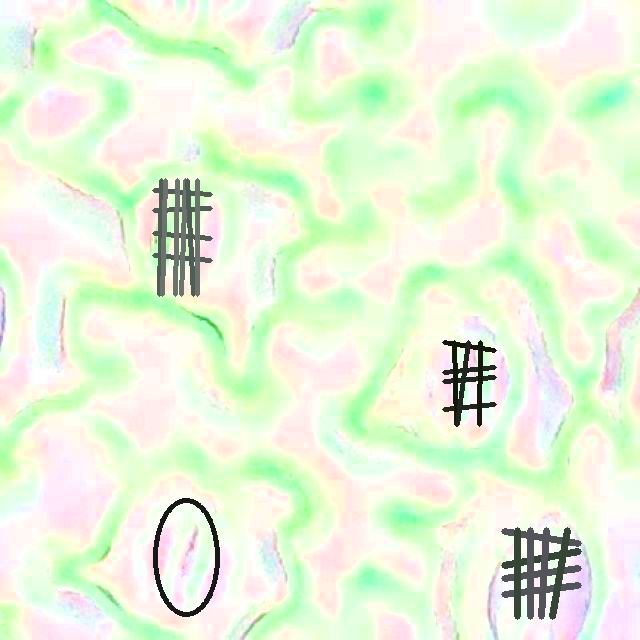open: (152, 497, 220, 617), (502, 528, 581, 619), (152, 178, 211, 295), (443, 340, 496, 426)
